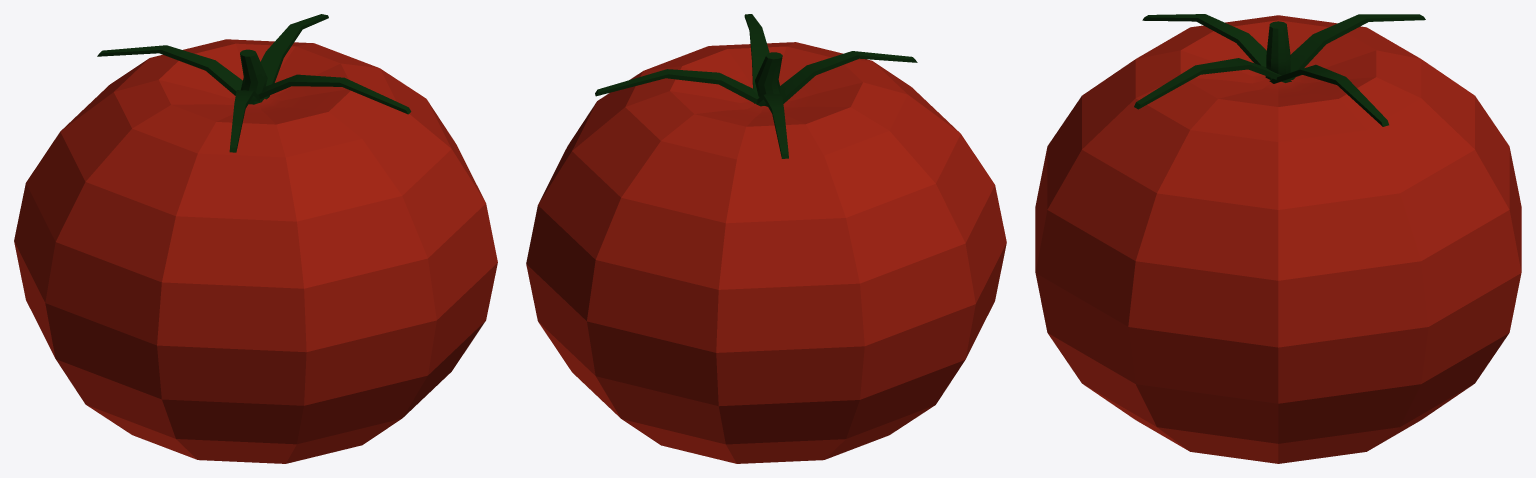
The model's file is Tomato_Produce_Standin.fbx.
3 views of the same model, side by side, from view 1: azimuth 30°, elevation 25°; view 2: azimuth 150°, elevation 25°; view 3: azimuth 270°, elevation 25° (orthographic). The views are drawn at different scales.
Parts seen in each view (by area): view 1: pSphere2; view 2: pSphere2; view 3: pSphere2.
Boxes of the visible parts, x1,y1,x2,y2 form: pSphere2: (14, 14, 497, 463); pSphere2: (526, 14, 1006, 463); pSphere2: (1035, 14, 1521, 463).
Size of the model in its own units: 0.7105 by 0.628 by 0.6757.
